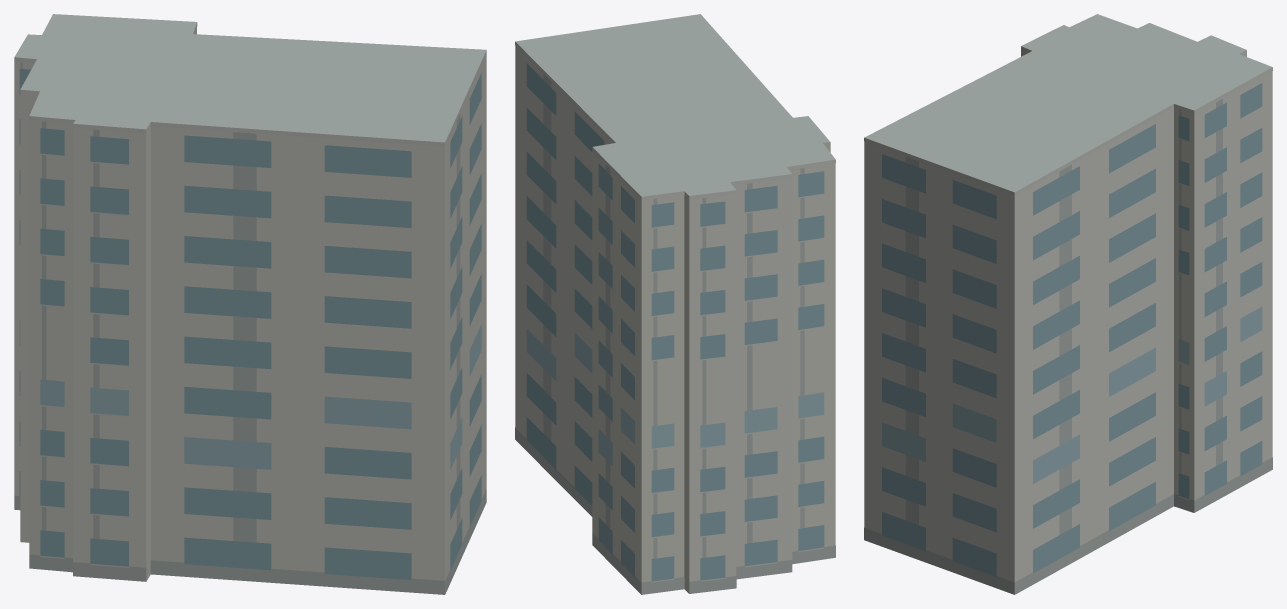
File: survey-upis-32737707.glb
3 views of the same model, side by side, from view 1: azimuth 30°, elevation 25°; view 2: azimuth 150°, elevation 25°; view 3: azimuth 270°, elevation 25° (orthographic). The views are drawn at different scales.
Visible parts, largest first — view 1: survey-upis-32737707.tmp; view 2: survey-upis-32737707.tmp; view 3: survey-upis-32737707.tmp.
Boxes of the visible parts, x1,y1,x2,y2 form: survey-upis-32737707.tmp: (14,14,486,594); survey-upis-32737707.tmp: (515,14,835,594); survey-upis-32737707.tmp: (864,14,1272,594).
Size of the model in its own units: 24.24 by 25.5 by 23.47.
